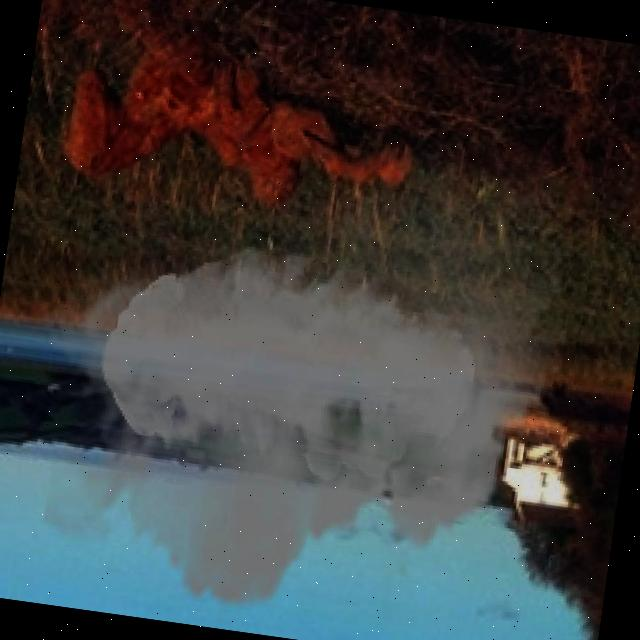smoke: (0, 69, 593, 640)
